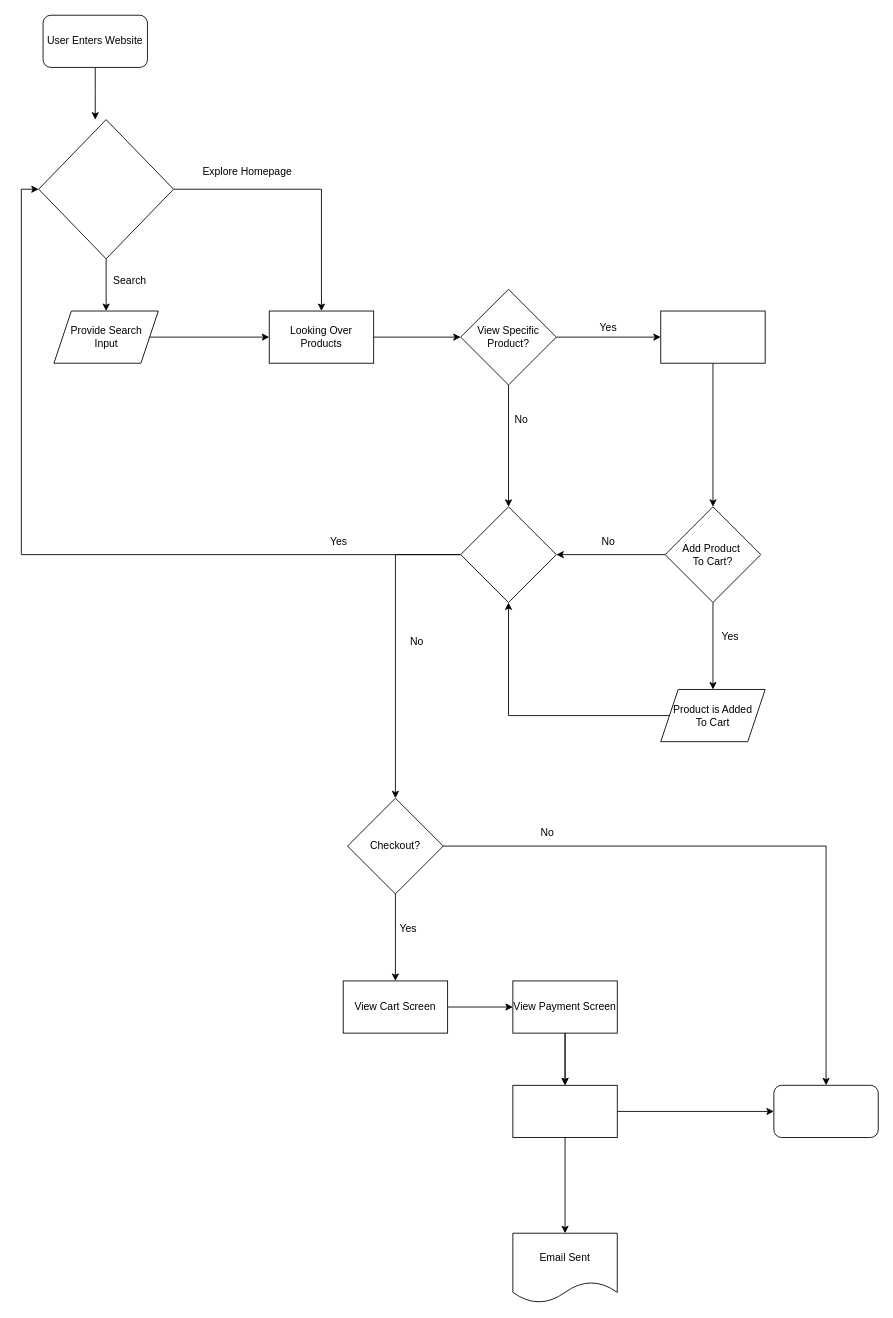
Some shapes in this 893 by 1318 pixel diagram are drawn without their labels. The centre of each missing label's shape, as x and y in pixels:
Confirmation Screen: point (564, 1111)
Continue Shopping?: point (508, 554)
Leave Website: point (825, 1111)
Open Product's Webpage: point (712, 336)
Search or Explore Homepage?: point (106, 189)
